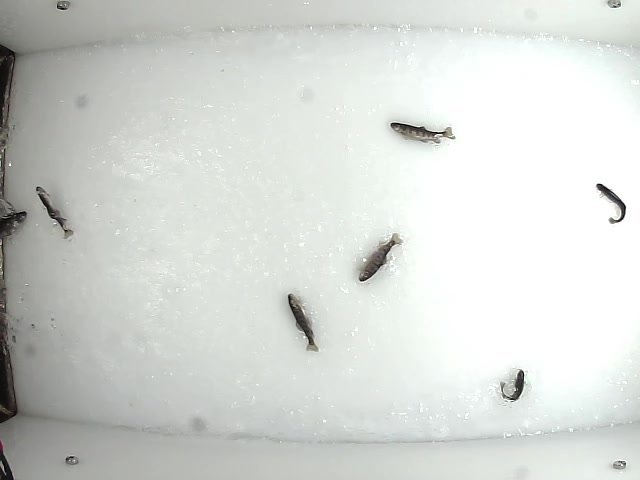fish: (356, 232, 403, 284), (284, 291, 320, 354), (35, 186, 76, 241), (388, 119, 456, 146), (595, 179, 628, 225), (499, 368, 526, 403)
